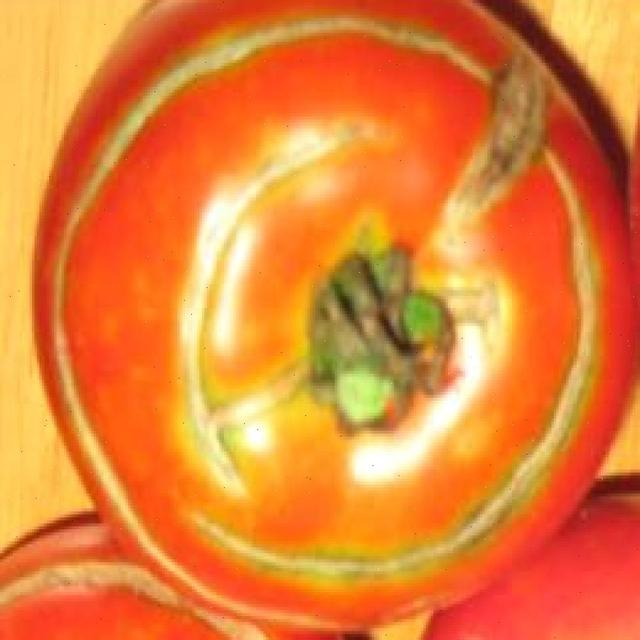Cracking Fruit: (120, 212, 376, 409)
